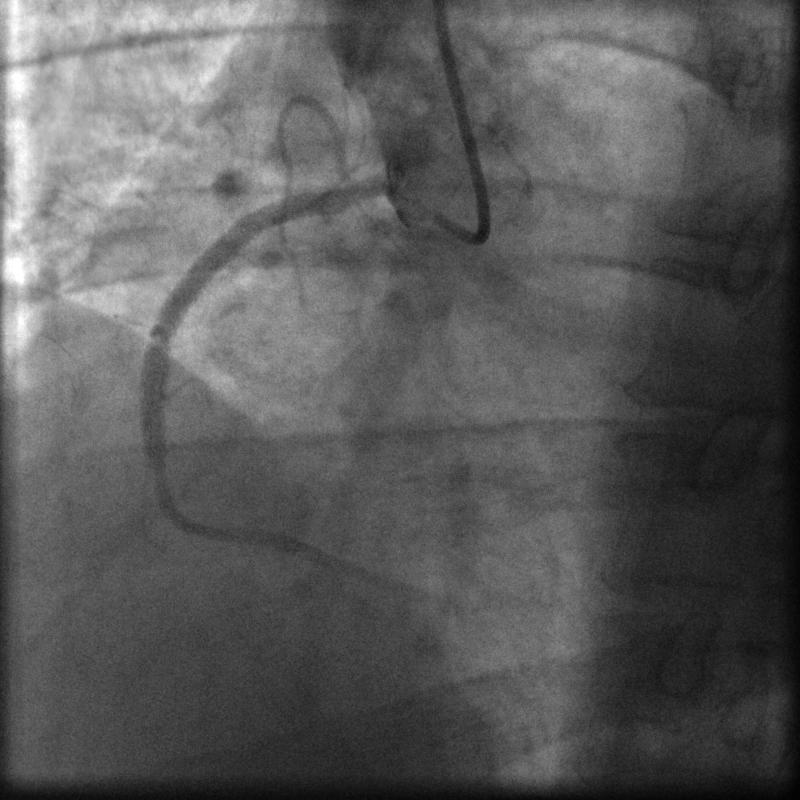Stenosis: (143, 438, 177, 506)
